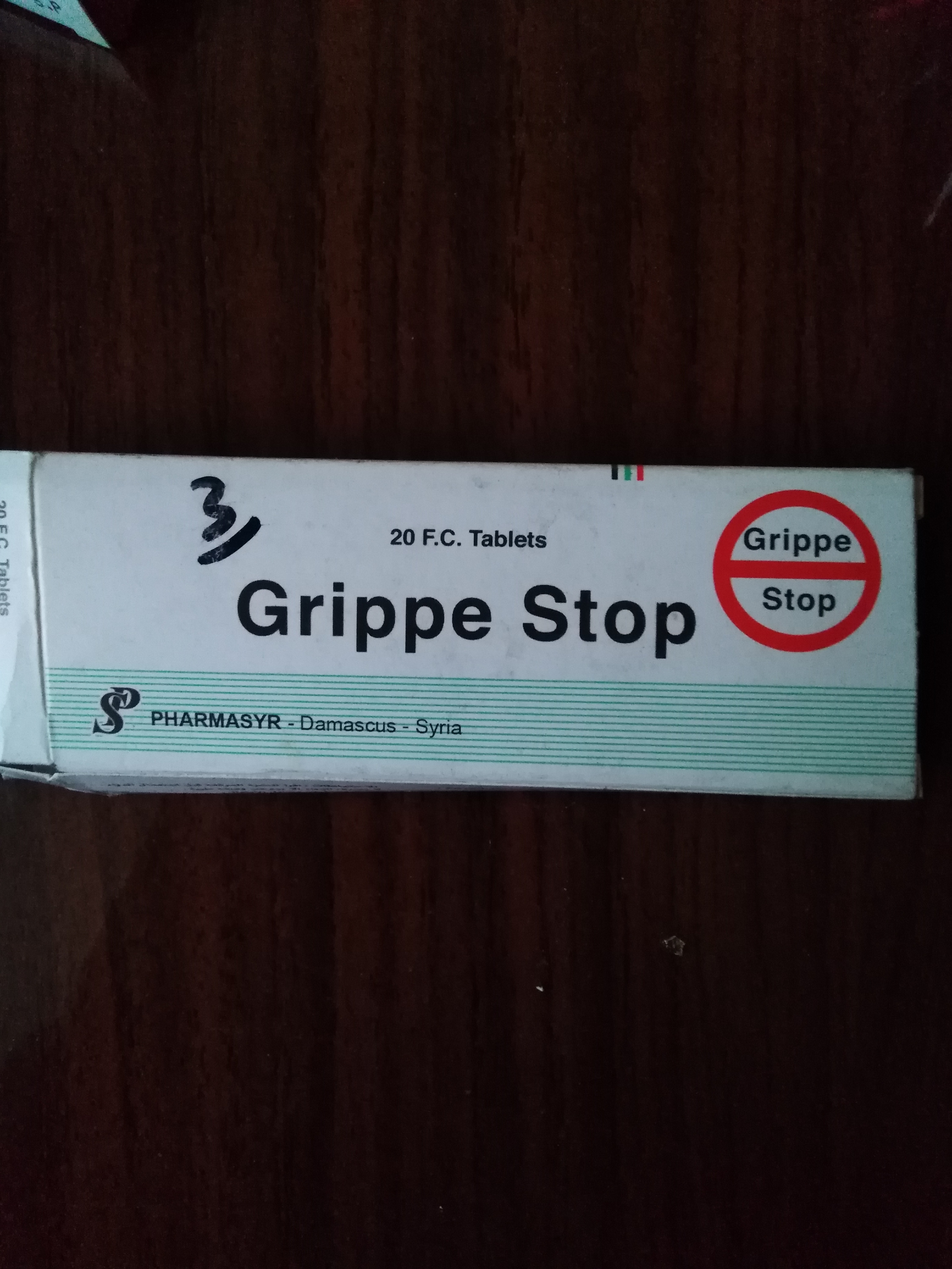Medicine: (6, 422, 939, 815)
